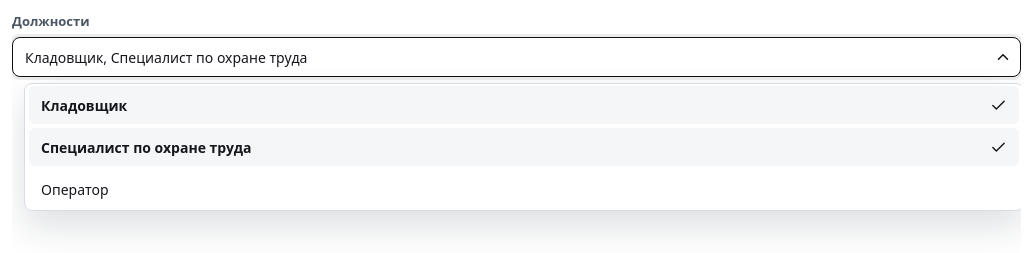
edits only the last selection independently of comma spacing: Кладовщик,Оператор
The width and height of the screenshot is (1036, 253).
Replace the text in the dropdown with "Кладовщик," at point(516, 57), box [12,37,1021,77]
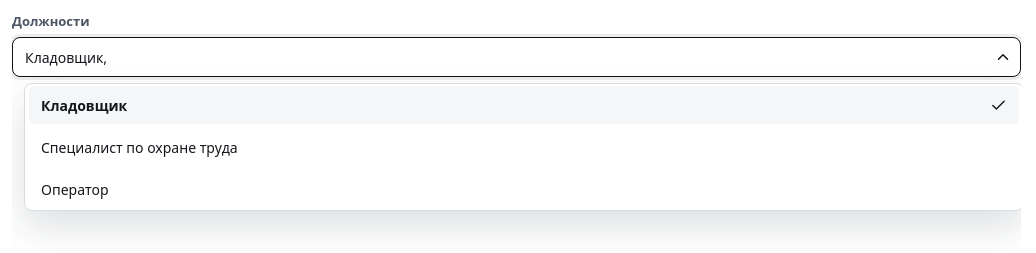
Replace the text in the dropdown with "Кладовщик,Оператор" at point(516, 57), box [12,37,1021,77]
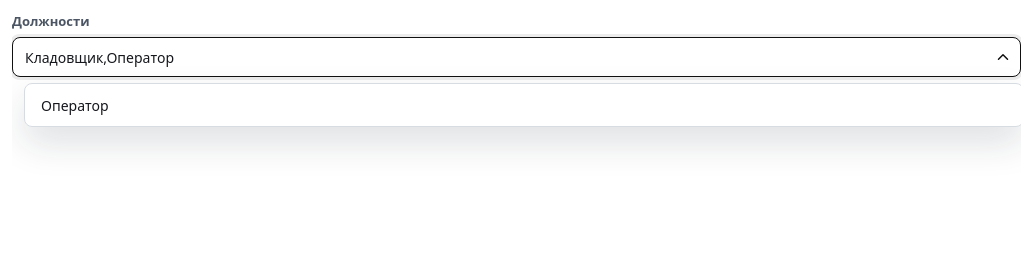
Press ArrowDown in the dropdown, box [12,37,1021,77]
Press Enter in the dropdown, box [12,37,1021,77]
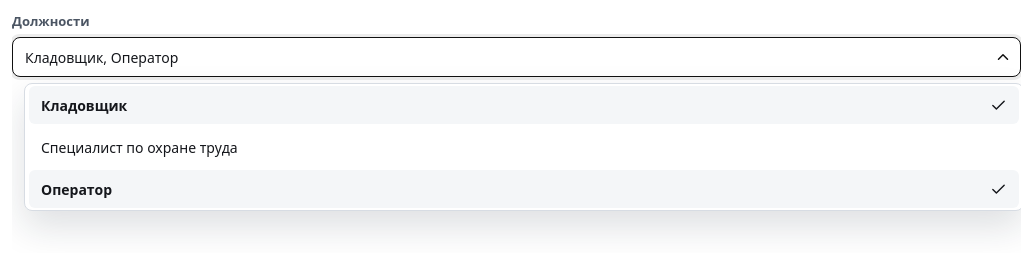
Expected: the dropdown holds "Кладовщик, Оператор", [12,37,1021,77]
